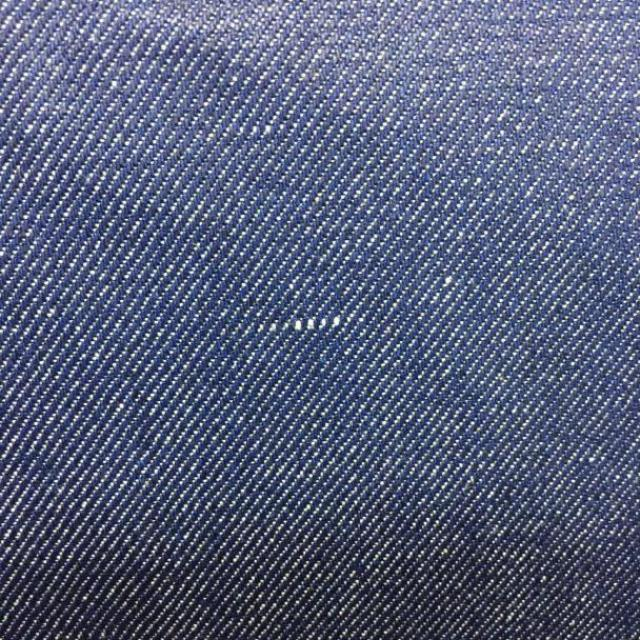Knot: (293, 318, 341, 331)
